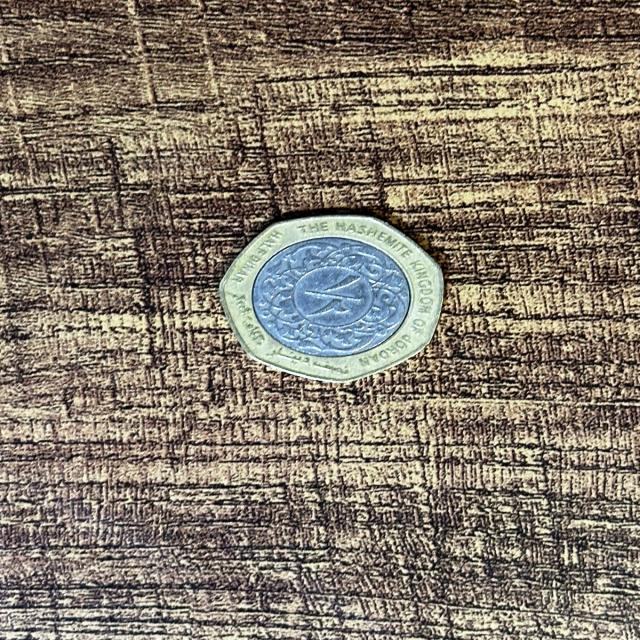50-coins: (217, 215, 444, 384)
